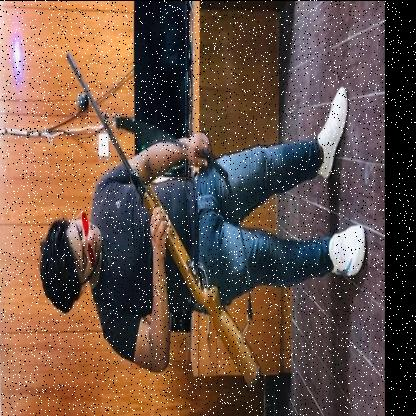rifle: (64, 48, 262, 390)
